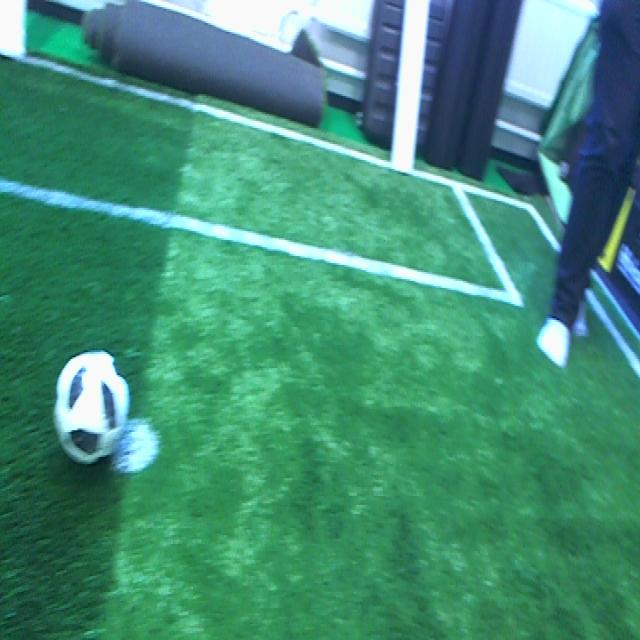ball: (50, 348, 131, 469)
goalpost: (393, 0, 435, 178)
